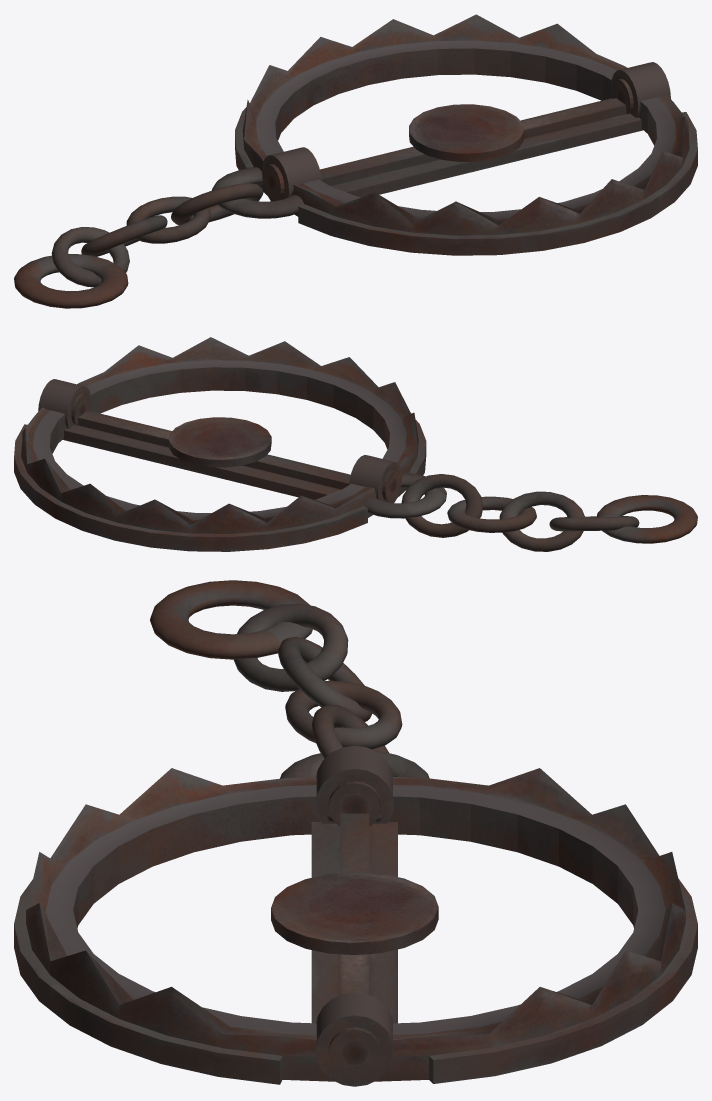
The model's file is kapkan.fbx.
The picture shows the model from 3 angles, top to bottom: view 1: azimuth 30°, elevation 25°; view 2: azimuth 150°, elevation 25°; view 3: azimuth 270°, elevation 25°; orthographic projection. The views are drawn at different scales.
Visible parts, largest first — view 1: pCylinder4; view 2: pCylinder4; view 3: pCylinder4.
Part boxes in pixels (x1,y1,x2,y2): pCylinder4: (14, 14, 697, 308); pCylinder4: (14, 337, 697, 551); pCylinder4: (14, 580, 697, 1086).
Size of the model in its own units: 42.42 by 3.65 by 25.48.
